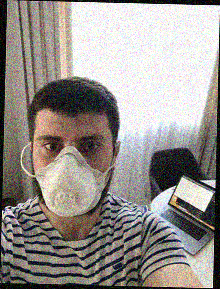with_mask: (32, 126, 110, 217)
